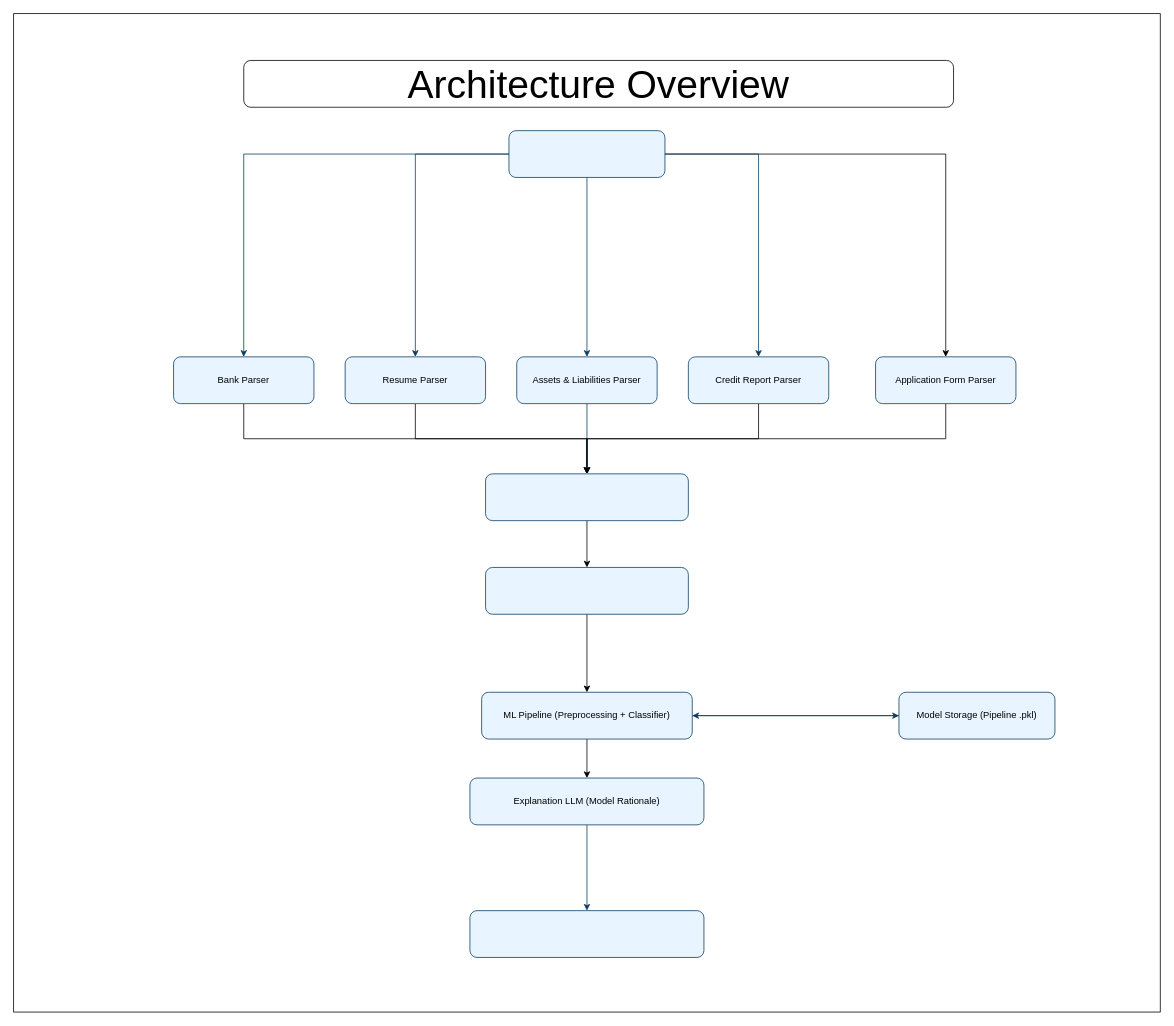
Some shapes in this 1174 by 1026 pixel diagram are drawn without their labels. Each missing label, with the centre of its shape:
Conversational Agent (LLMChain): (x=586, y=933)
Data Validation: (x=586, y=497)
Feature Engineering: (x=586, y=590)
Streamlit Frontend (Index.py): (x=586, y=153)
